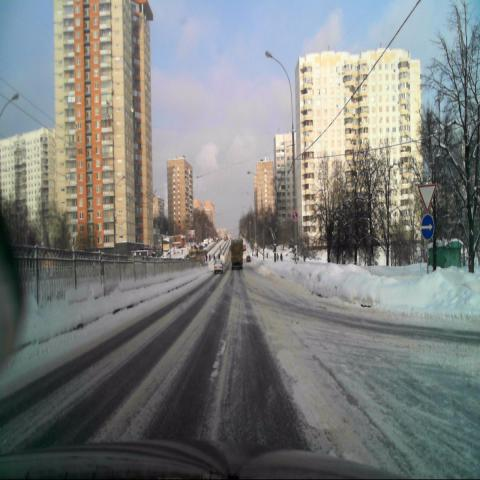4_1_2_1: (420, 214, 434, 241)
